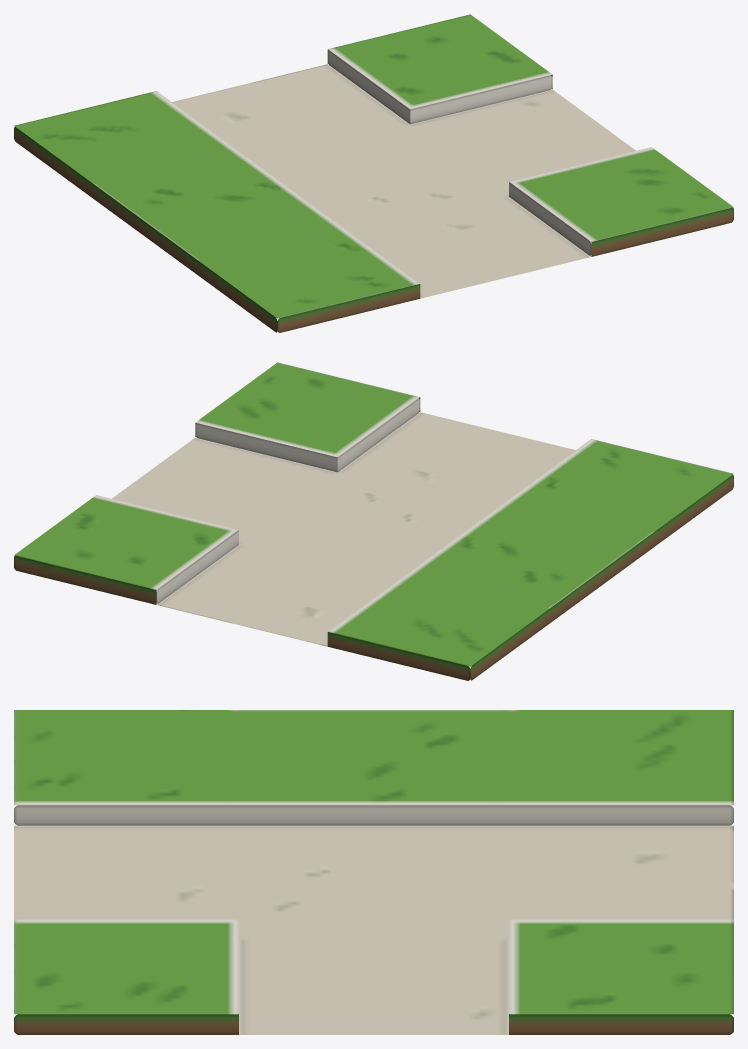
The model's file is Parque_Camino_T.fbx.
3 renders of one model, top to bottom at view 1: azimuth 30°, elevation 25°; view 2: azimuth 150°, elevation 25°; view 3: azimuth 270°, elevation 25°, orthographic. The views are drawn at different scales.
Visible parts, largest first — view 1: Parque_Camino_T; view 2: Parque_Camino_T; view 3: Parque_Camino_T.
Part boxes in pixels (<box>): Parque_Camino_T: <box>14,14,733,332</box>; Parque_Camino_T: <box>14,362,733,680</box>; Parque_Camino_T: <box>14,710,733,1034</box>.
Bounding box in the file's own units: 3 × 0.0938 × 3.
1 material, 1 textured.
